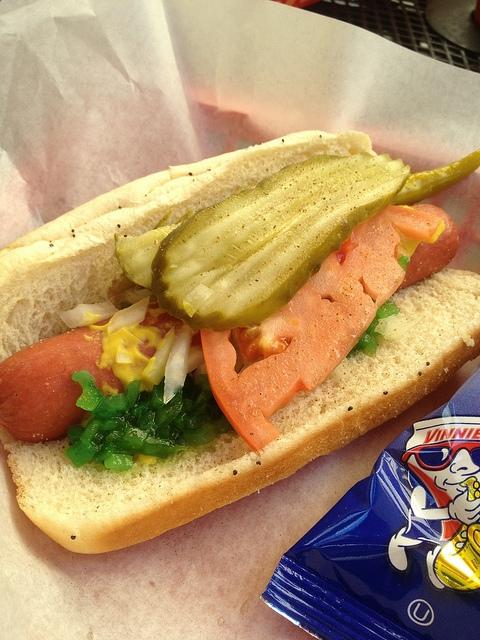onion: (162, 325, 194, 405), (142, 326, 176, 384), (56, 301, 120, 328), (107, 297, 150, 335), (374, 314, 426, 340)
tomato: (201, 205, 446, 452)
